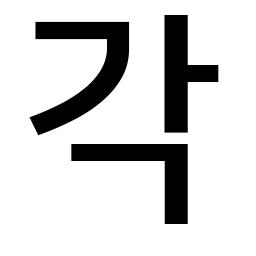Bbichim: (16, 101, 65, 145)
Buri: (157, 6, 197, 32)
Gaji: (157, 54, 200, 94)
Kkeokim: (95, 13, 142, 54)
kkeokim: (149, 136, 195, 171)
